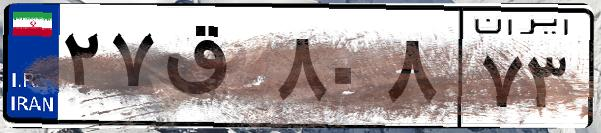0: (330, 28, 385, 110)
2: (57, 26, 110, 100)
3: (525, 38, 570, 115)
7: (475, 38, 525, 113), (110, 28, 158, 98)
8: (270, 28, 330, 110), (385, 28, 445, 110)
ق: (158, 20, 270, 120)
